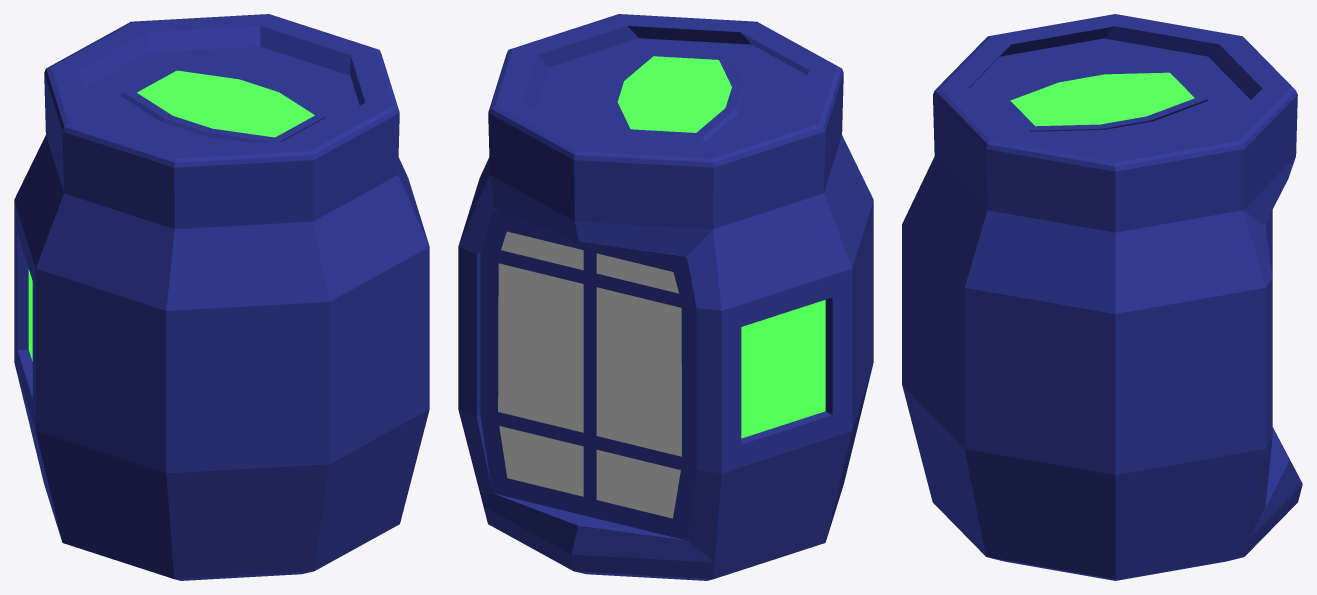
Rendered from cargocontainer-blue.glb.
The picture shows the model from 3 angles, left to right: view 1: azimuth 30°, elevation 25°; view 2: azimuth 150°, elevation 25°; view 3: azimuth 270°, elevation 25°; orthographic projection.
Visible parts, largest first — view 1: cilindro, pannello; view 2: cilindro, cilindro.001, oblo, pannello; view 3: cilindro, pannello.
Boxes of the visible parts, x1,y1,x2,y2 form: cilindro: [14, 14, 429, 580]; pannello: [137, 70, 314, 137]; cilindro: [458, 14, 873, 580]; cilindro.001: [498, 231, 681, 518]; oblo: [741, 300, 825, 438]; pannello: [617, 56, 731, 132]; cilindro: [902, 14, 1302, 580]; pannello: [1010, 72, 1194, 126].
Bounding box in the file's own units: 2.33 × 2.57 × 2.19.
